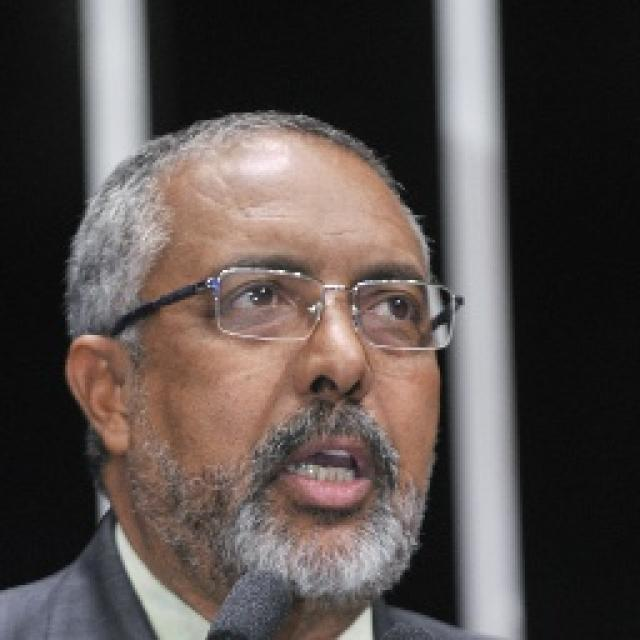earlobe: (64, 335, 132, 455)
